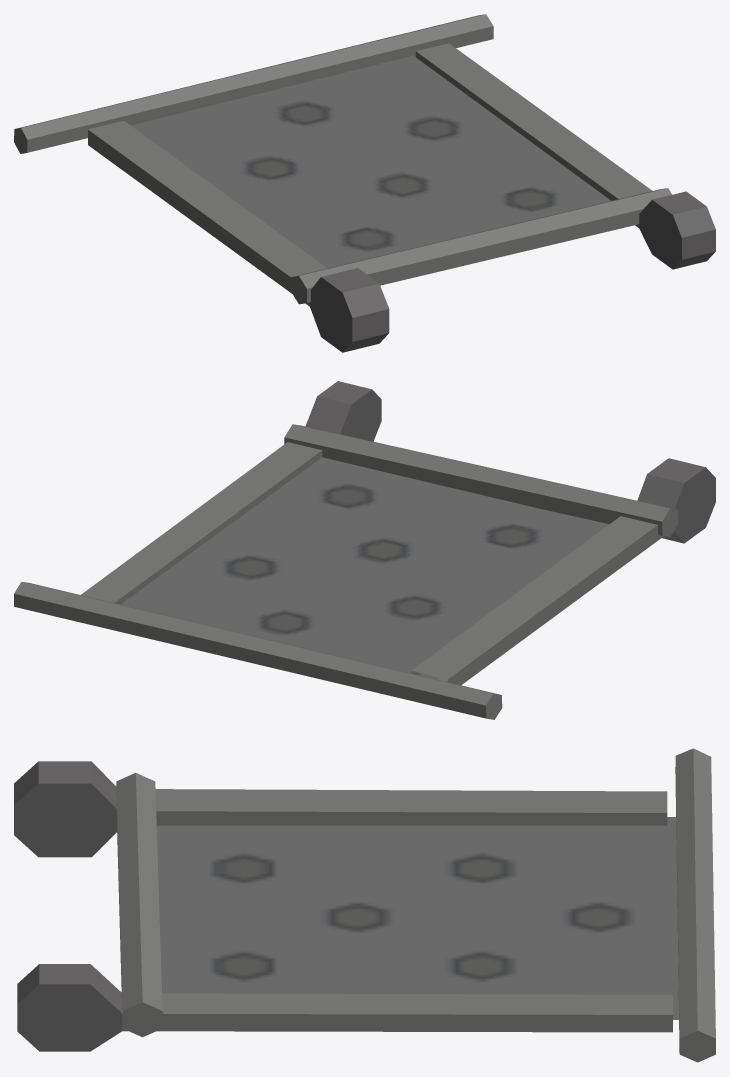
File: SM_Prop_Scaffold_Ramp_02.fbx
3 renders of one model, top to bottom at view 1: azimuth 30°, elevation 25°; view 2: azimuth 150°, elevation 25°; view 3: azimuth 270°, elevation 25°, orthographic. The views are drawn at different scales.
Visible parts, largest first — view 1: SM_Prop_Scaffold_Ramp_02; view 2: SM_Prop_Scaffold_Ramp_02; view 3: SM_Prop_Scaffold_Ramp_02.
Boxes of the visible parts, <box> form: SM_Prop_Scaffold_Ramp_02: <box>14,14,715,352</box>; SM_Prop_Scaffold_Ramp_02: <box>14,381,715,719</box>; SM_Prop_Scaffold_Ramp_02: <box>14,748,715,1062</box>.
Size of the model in its own units: 102 by 12.54 by 108.
